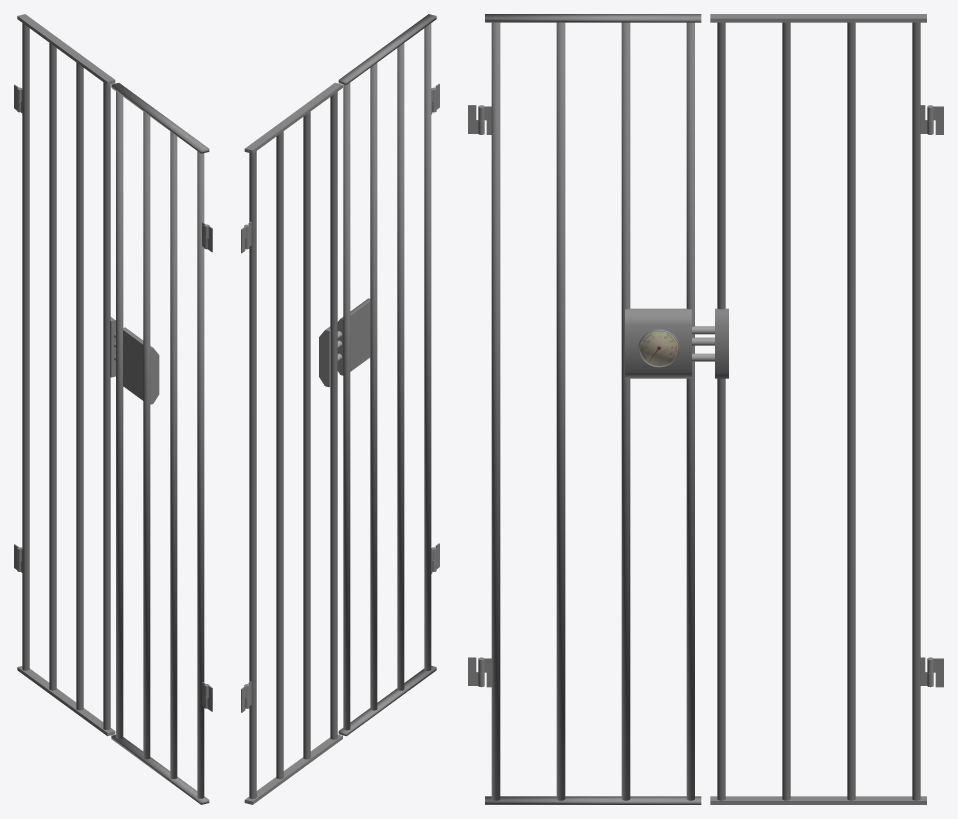
File: RodDoorMesh.FBX
The picture shows the model from 3 angles, left to right: view 1: azimuth 30°, elevation 25°; view 2: azimuth 150°, elevation 25°; view 3: azimuth 270°, elevation 25°; orthographic projection. The views are drawn at different scales.
Visible parts, largest first — view 1: RightDoor, LeftDoor, Lock; view 2: RightDoor, LeftDoor, Lock; view 3: LeftDoor, RightDoor, Lock.
Boxes of the visible parts, x1,y1,x2,y2 form: RightDoor: (17, 14, 115, 736); LeftDoor: (111, 83, 209, 804); Lock: (123, 327, 159, 404); RightDoor: (244, 82, 342, 804); LeftDoor: (338, 14, 436, 736); Lock: (337, 298, 370, 375); LeftDoor: (478, 14, 701, 804); RightDoor: (710, 14, 933, 804); Lock: (625, 308, 691, 378).
Size of the model in its own units: 2.31 by 78.88 by 43.25.
